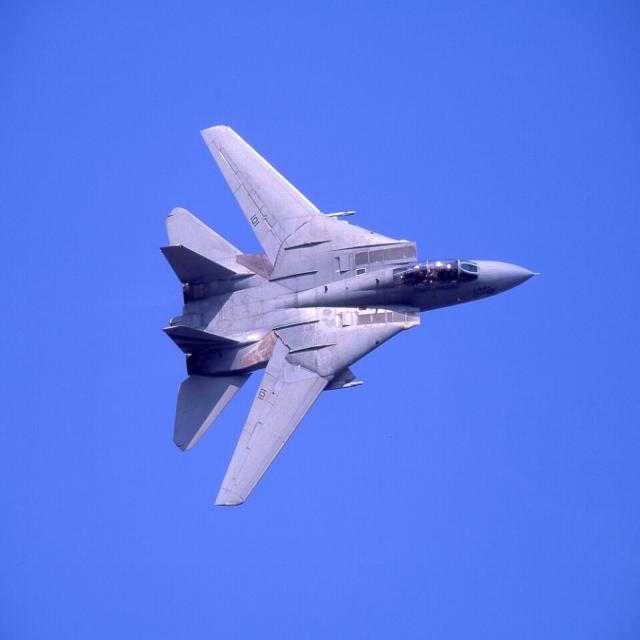MIL_Plane: (159, 124, 540, 506)
